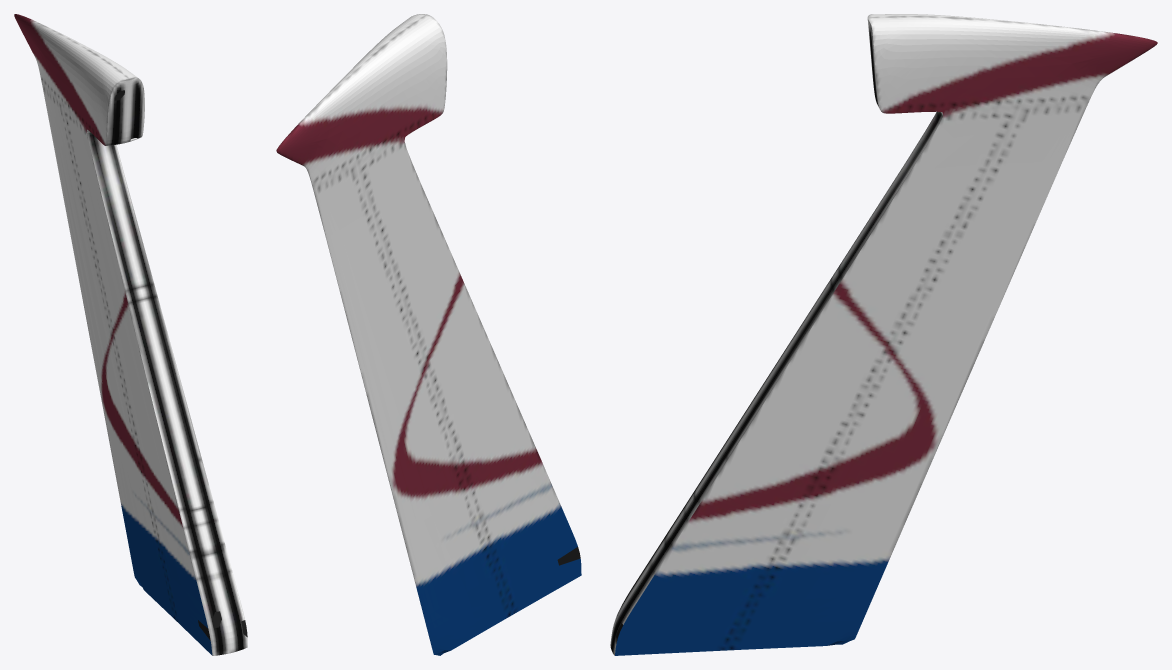
The model's file is tail.obj.
3 views of the same model, side by side, from view 1: azimuth 30°, elevation 25°; view 2: azimuth 150°, elevation 25°; view 3: azimuth 270°, elevation 25° (orthographic). The views are drawn at different scales.
Visible parts, largest first — view 1: Cessna172.001; view 2: Cessna172.001; view 3: Cessna172.001.
Boxes of the visible parts, bbox=[...] form: Cessna172.001: bbox=[14, 14, 247, 655]; Cessna172.001: bbox=[276, 14, 581, 655]; Cessna172.001: bbox=[610, 14, 1157, 655].
Size of the model in its own units: 0.3424 by 4.39 by 3.46.
2 materials, 1 textured.
